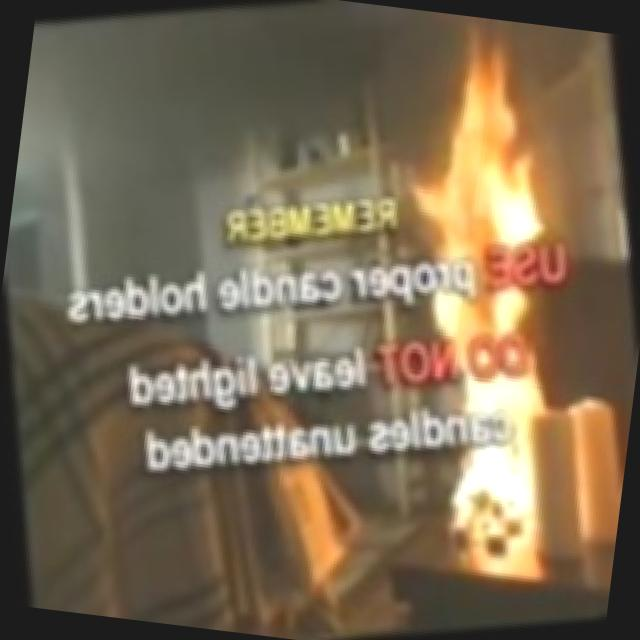fire: (343, 8, 640, 547)
